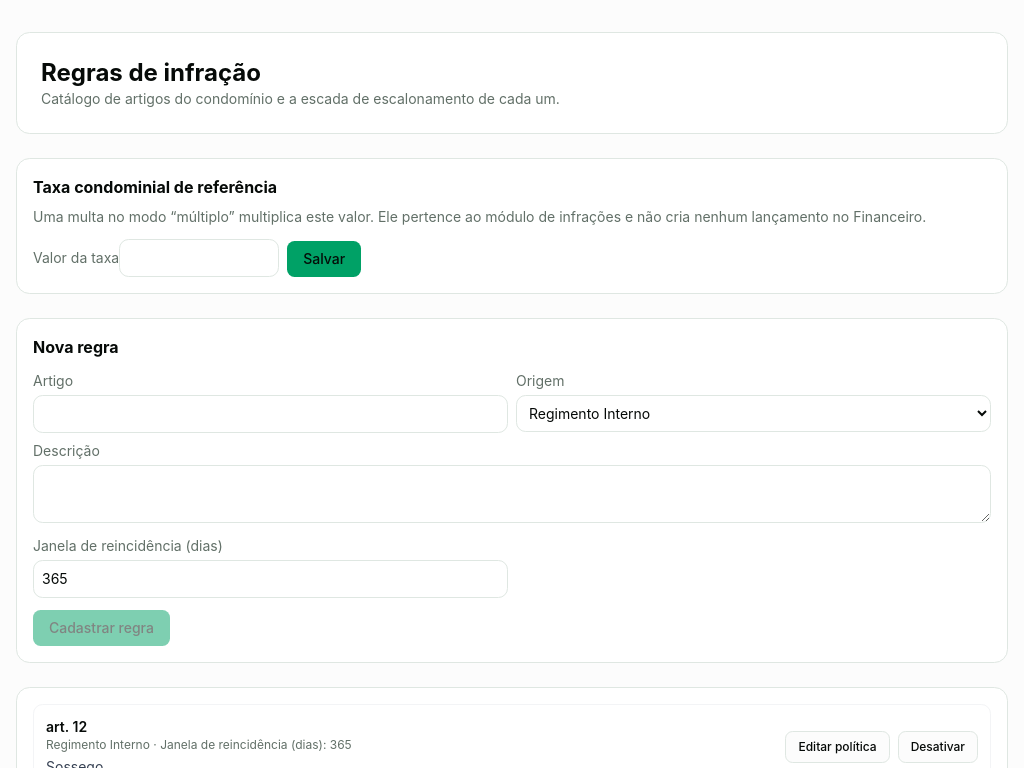
InfractionRulesPage › keeps four decimals on the fine multiplier and two on the amount
Click the button with test id "edit-policy-rule-1" at (838, 747), box top-left (786, 731), bottom-right (890, 763)
(page scrolled)
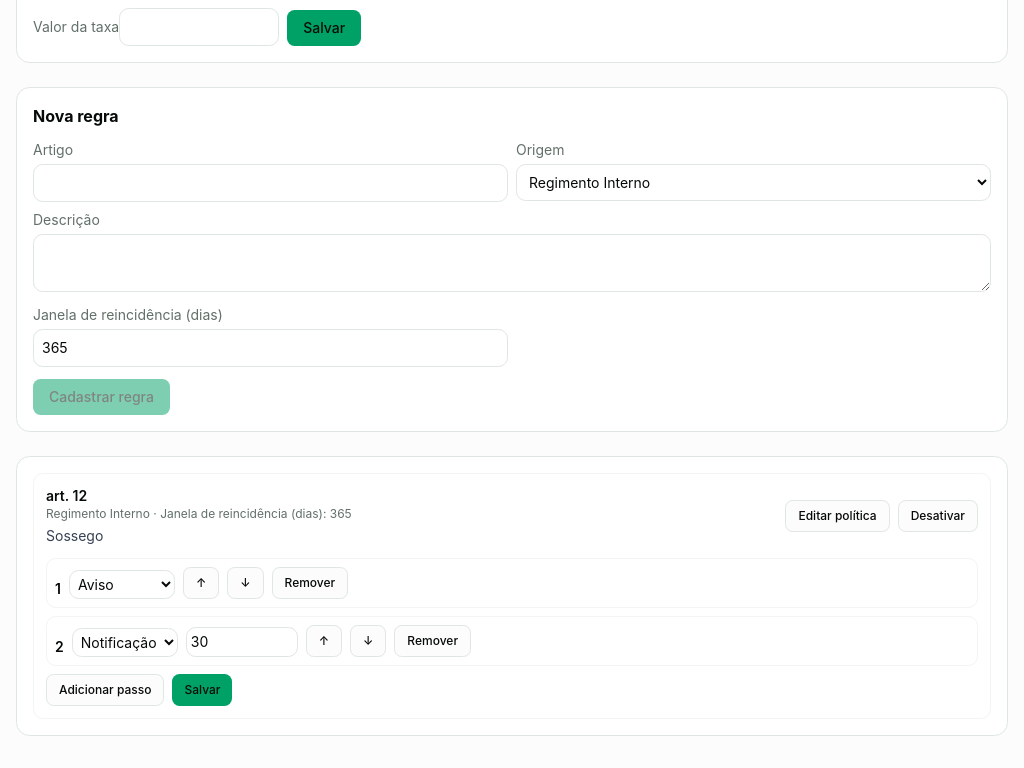
Select "Multa" in the 1st dropdown named "Ação" at (122, 584), box top-left (69, 570), bottom-right (175, 599)
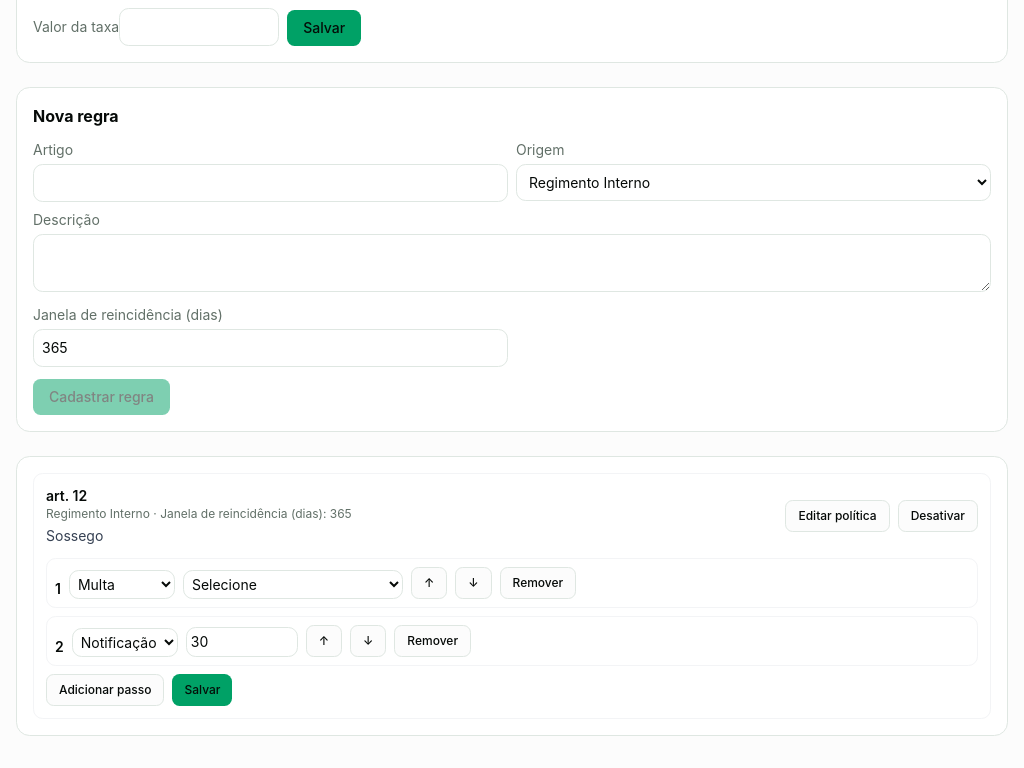
Select "Múltiplo da taxa condominial" in the dropdown named "Modo da multa" at (293, 584), box top-left (183, 570), bottom-right (403, 599)
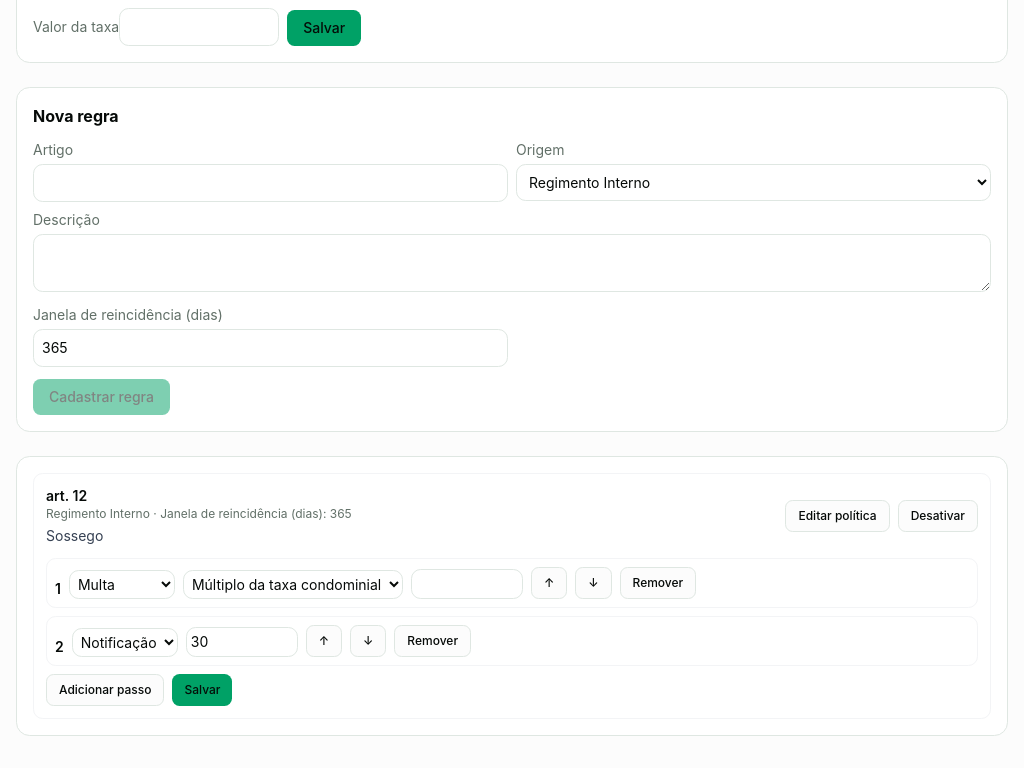
Type "0.12345" into the number field named "Multiplicador" at (467, 584), box top-left (411, 569), bottom-right (523, 599)
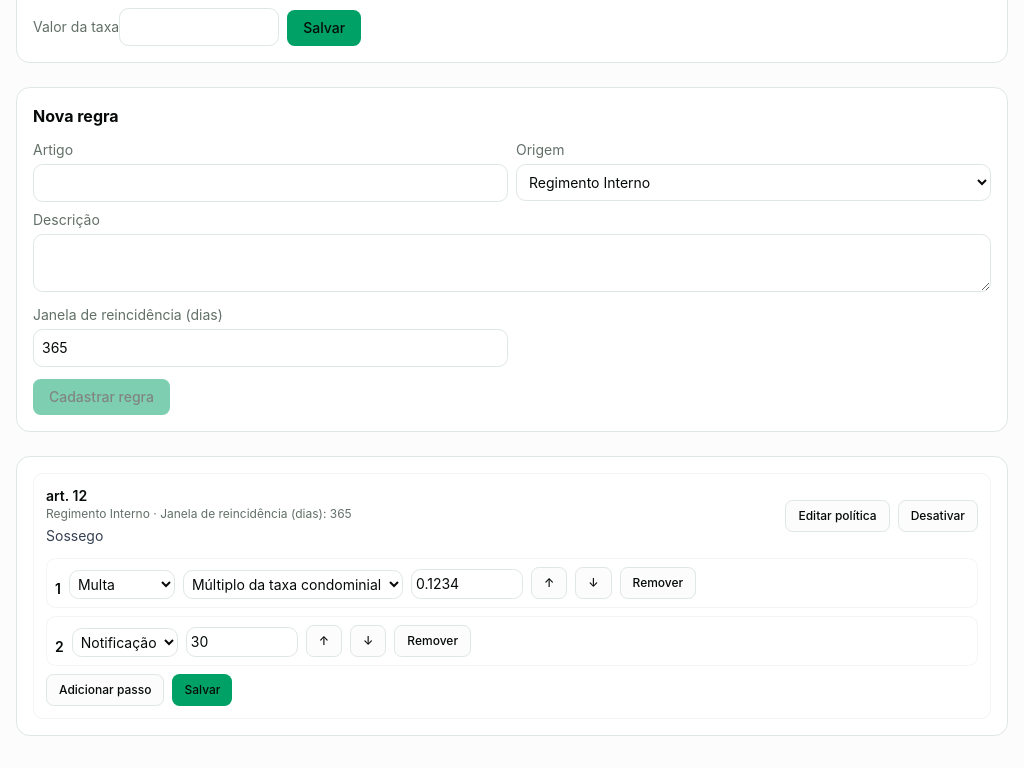
expect the number field named "Multiplicador" holds "0.1234": met, box top-left (411, 569), bottom-right (523, 599)
Select "Valor fixo" in the dropdown named "Modo da multa" at (293, 584), box top-left (183, 570), bottom-right (403, 599)
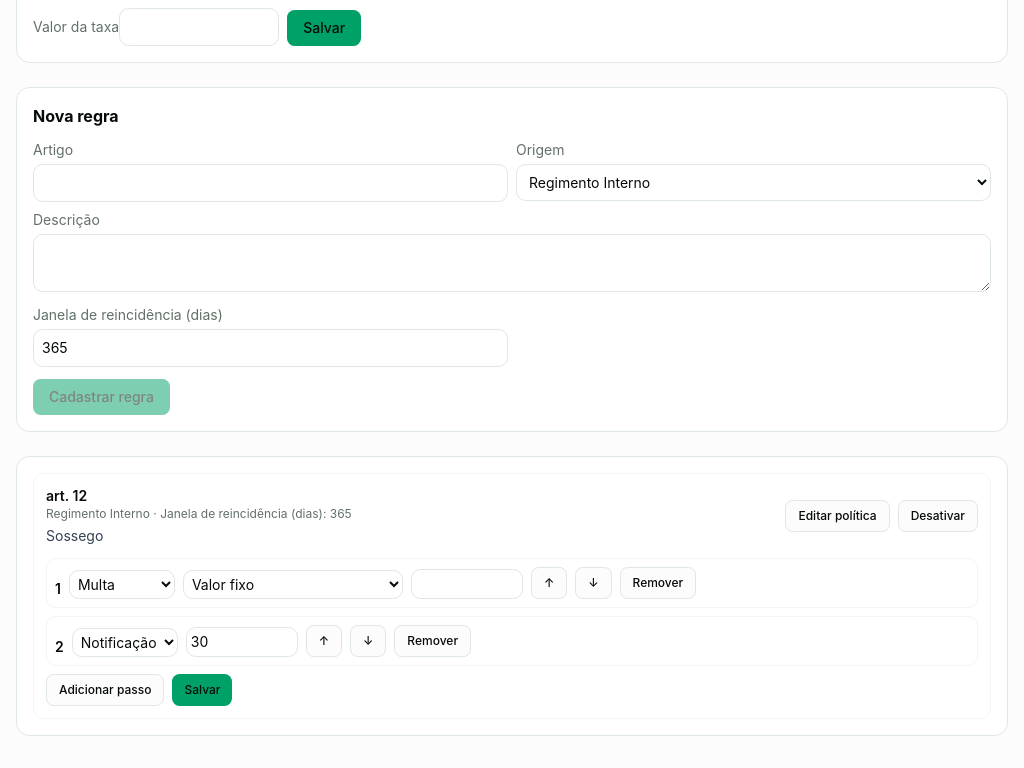
Type "2.675" into the number field named "Valor" at (467, 584), box top-left (411, 569), bottom-right (523, 599)
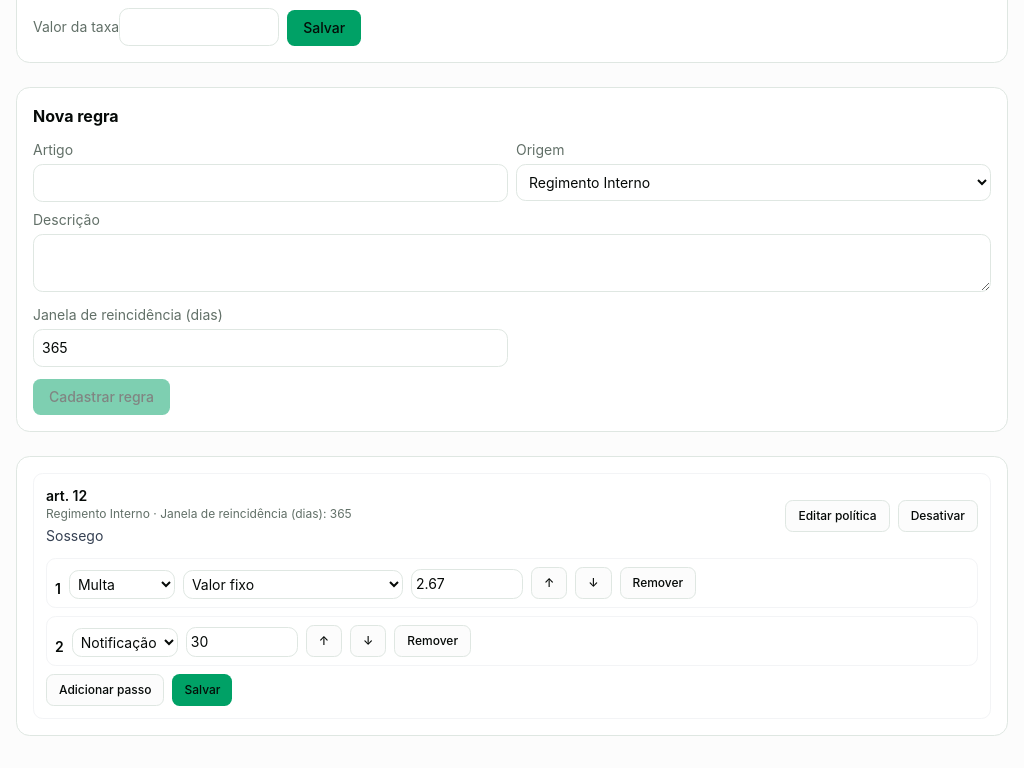
expect the number field named "Valor" holds "2.67": met, box top-left (411, 569), bottom-right (523, 599)
